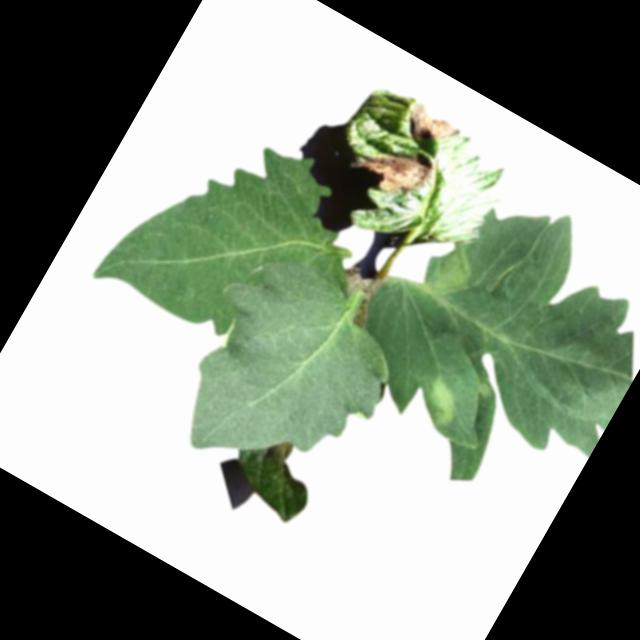Late_blight: (345, 126, 439, 212), (414, 236, 484, 314), (323, 263, 384, 328), (397, 97, 463, 156), (410, 370, 469, 434), (257, 433, 305, 477)
